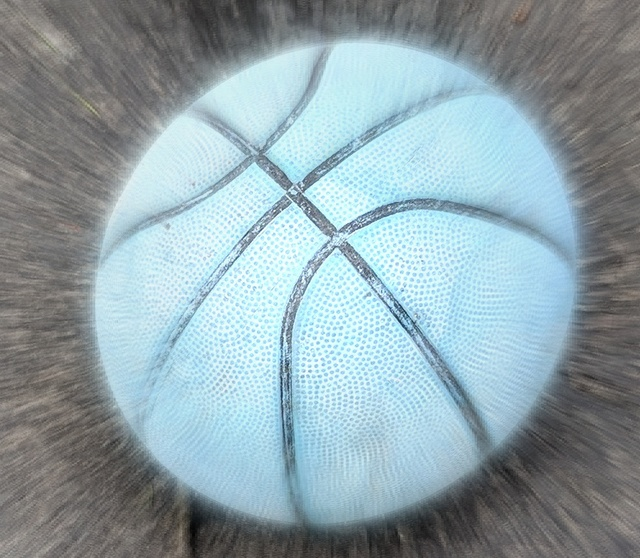ball: (71, 27, 588, 540)
